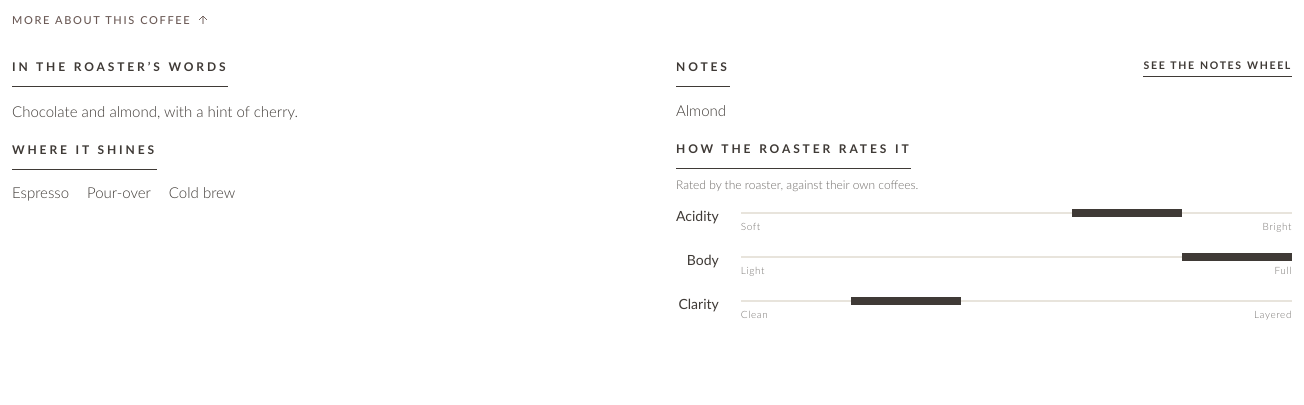
MoreAbout on /map: the roaster’s terms (Ella map 13) › the notes wheel opens from the link beside "Notes"
Earlier steps of the test are not shown.
Expected: the element with test id "field-reveal" does not show "Signature notes"
Click the button with test id "notes-wheel-link": (1218, 67) [1144,58,1292,77]
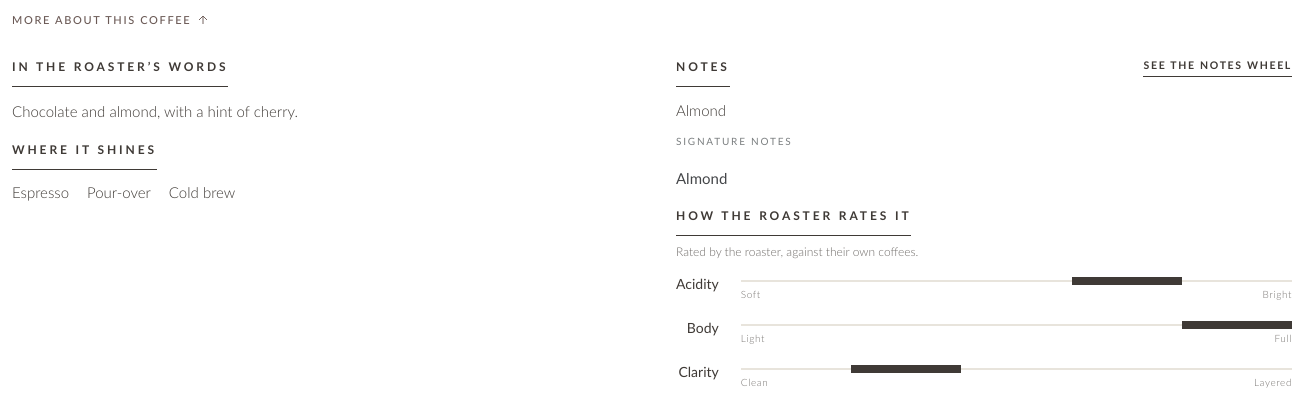
Result: the element with test id "field-reveal" shows "Signature notes" at [676,134,792,146]
